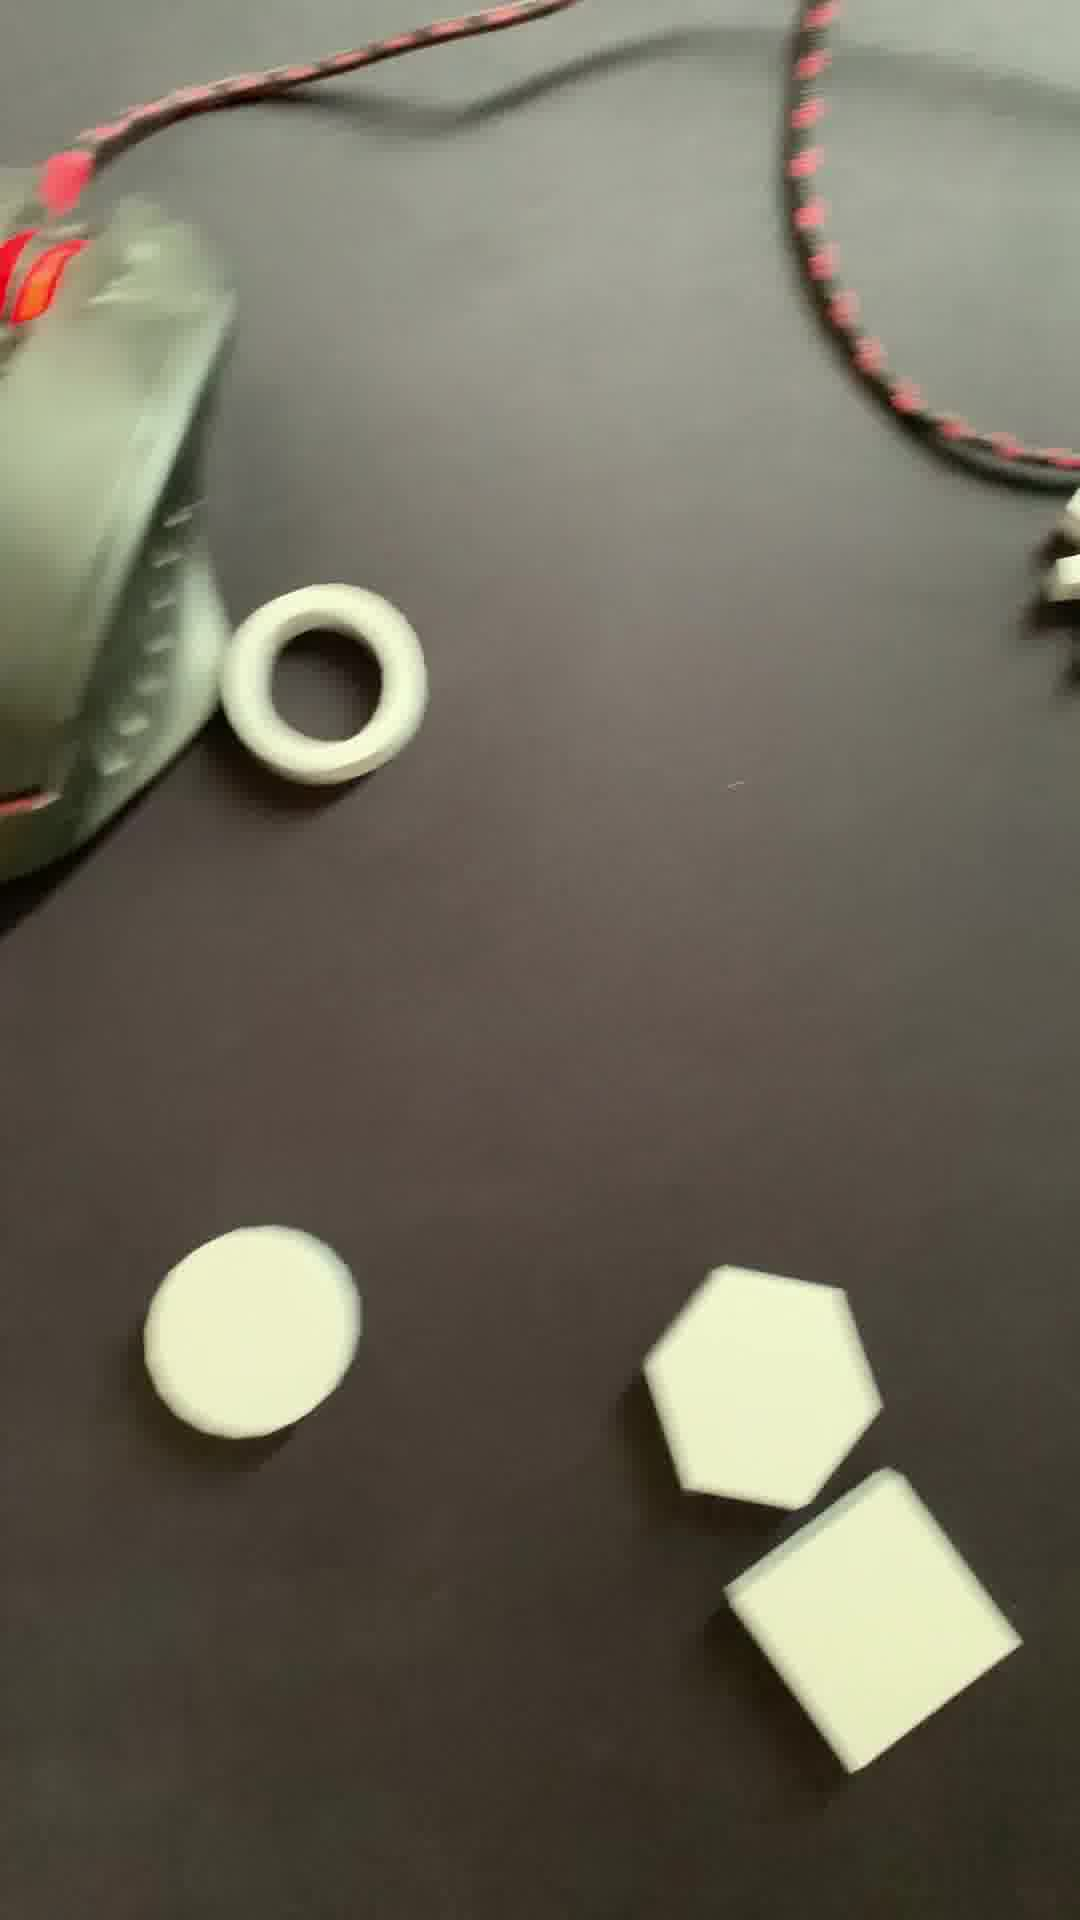Gray circle: (152, 1230, 367, 1457)
Gray hexagon: (632, 1257, 889, 1513)
Gray ring: (215, 597, 425, 779)
Gray square: (727, 1476, 1031, 1768)
